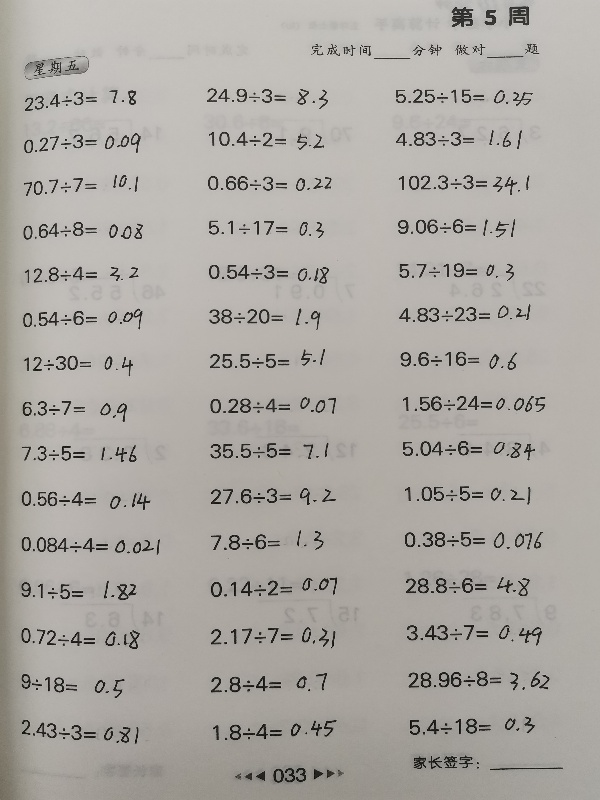equation: (388, 123, 537, 155), (16, 573, 147, 607), (201, 524, 337, 556), (12, 395, 146, 426), (404, 666, 553, 693), (402, 619, 545, 647), (204, 667, 335, 697), (12, 669, 133, 701), (12, 441, 146, 469), (399, 392, 549, 417), (394, 170, 532, 197), (17, 173, 150, 201), (207, 622, 338, 650), (401, 528, 547, 553), (398, 436, 538, 462), (19, 305, 146, 333), (403, 574, 534, 601), (203, 83, 331, 110), (394, 215, 520, 242), (17, 488, 153, 513), (19, 130, 144, 157), (17, 534, 163, 557), (206, 574, 340, 599), (400, 481, 534, 506), (206, 393, 340, 418), (395, 301, 534, 325), (391, 85, 536, 108), (205, 302, 323, 330), (16, 625, 143, 651), (19, 217, 146, 243), (209, 718, 341, 743), (208, 484, 340, 509), (204, 260, 332, 285), (405, 713, 538, 737), (18, 719, 142, 744), (396, 347, 520, 372), (206, 347, 328, 372), (395, 258, 517, 283), (203, 172, 335, 195), (20, 351, 136, 377), (207, 439, 332, 463), (204, 128, 328, 152), (204, 216, 327, 240), (21, 261, 141, 285), (21, 87, 139, 111)
